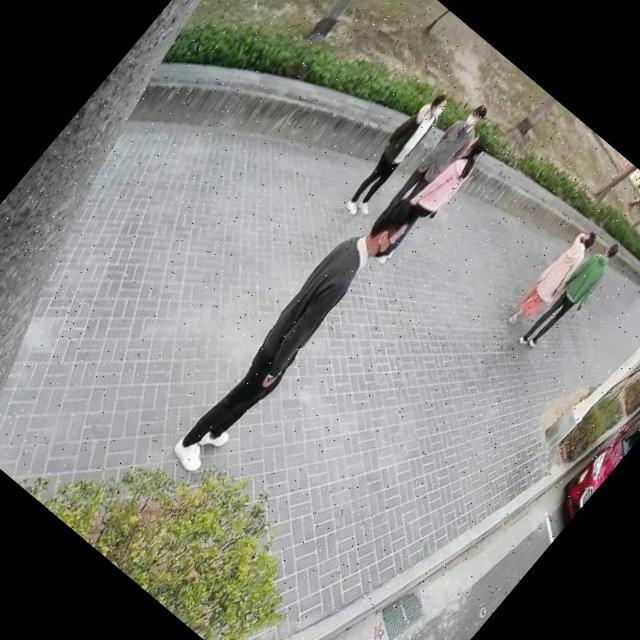person: (154, 170, 431, 486), (364, 119, 500, 273), (332, 78, 462, 224), (508, 225, 634, 368), (383, 93, 498, 221), (500, 218, 607, 338), (632, 255, 640, 299)
